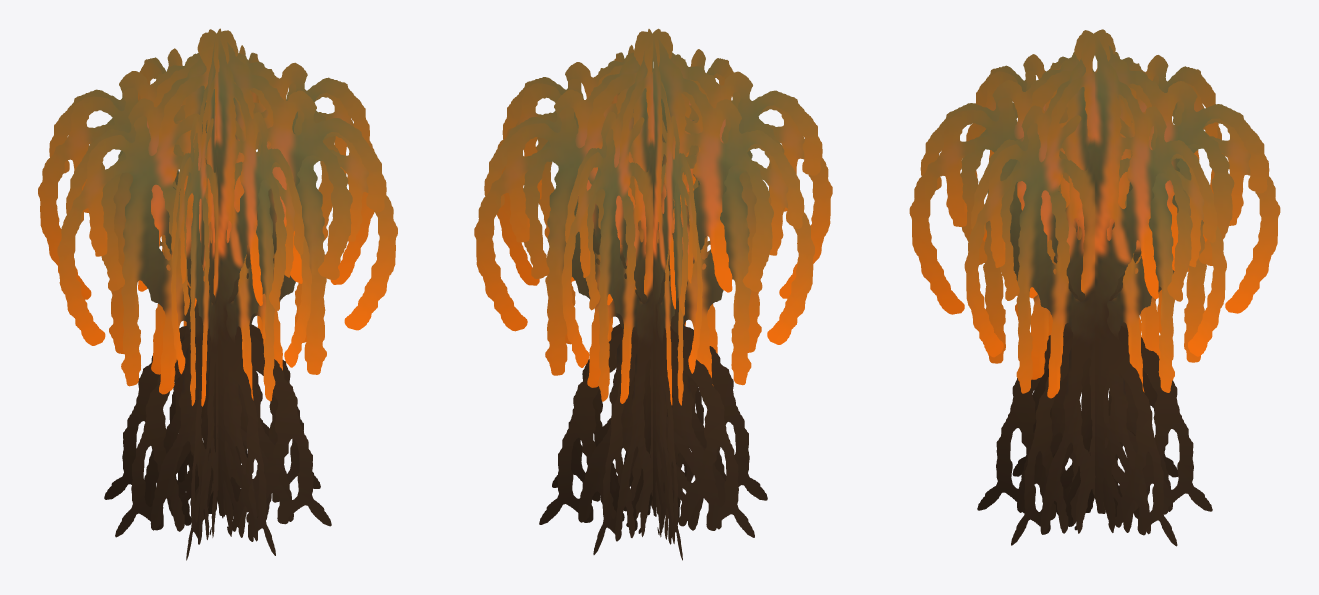
File: HP3_weed084.fbx
3 views of the same model, side by side, from view 1: azimuth 30°, elevation 25°; view 2: azimuth 150°, elevation 25°; view 3: azimuth 270°, elevation 25° (orthographic).
Visible parts, largest first — view 1: HP3_weed084; view 2: HP3_weed084; view 3: HP3_weed084.
Boxes of the visible parts, left/top/right/bottom form: HP3_weed084: left=38, top=28, right=397, bottom=560; HP3_weed084: left=474, top=28, right=832, bottom=560; HP3_weed084: left=909, top=29, right=1280, bottom=546.
Size of the model in its own units: 7.17 by 10.09 by 7.17.
